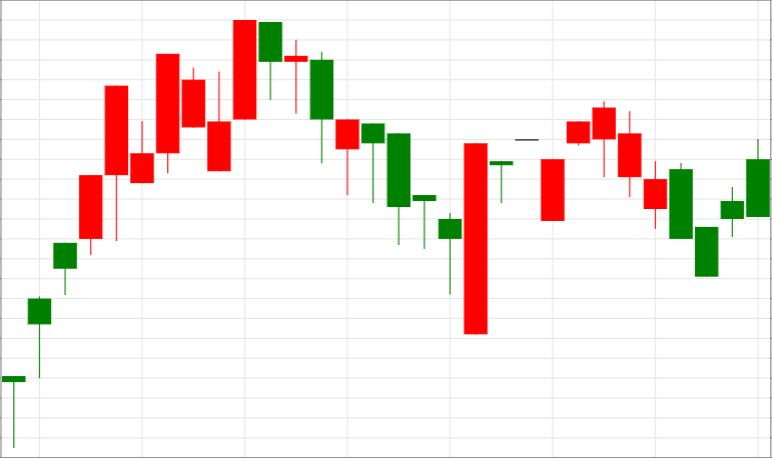bullish_engulfing_rise: (259, 22, 488, 336)
